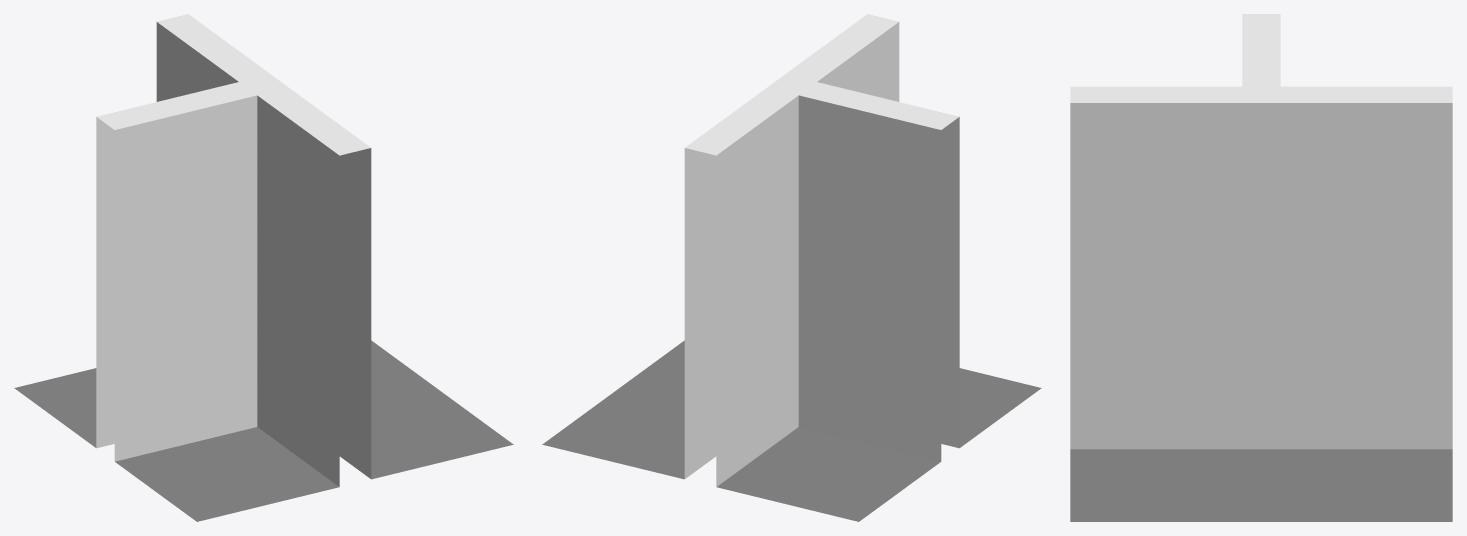
Rendered from I_Wall_T_Shape.fbx.
The picture shows the model from 3 angles, left to right: view 1: azimuth 30°, elevation 25°; view 2: azimuth 150°, elevation 25°; view 3: azimuth 270°, elevation 25°; orthographic projection. The views are drawn at different scales.
Parts seen in each view (by area): view 1: I_Wall_T_Shape; view 2: I_Wall_T_Shape; view 3: I_Wall_T_Shape.
Boxes of the visible parts, left/top/right/bottom form: I_Wall_T_Shape: left=14, top=14, right=513, bottom=521; I_Wall_T_Shape: left=542, top=14, right=1041, bottom=521; I_Wall_T_Shape: left=1070, top=14, right=1452, bottom=521.
Size of the model in its own units: 200 by 200 by 200.
